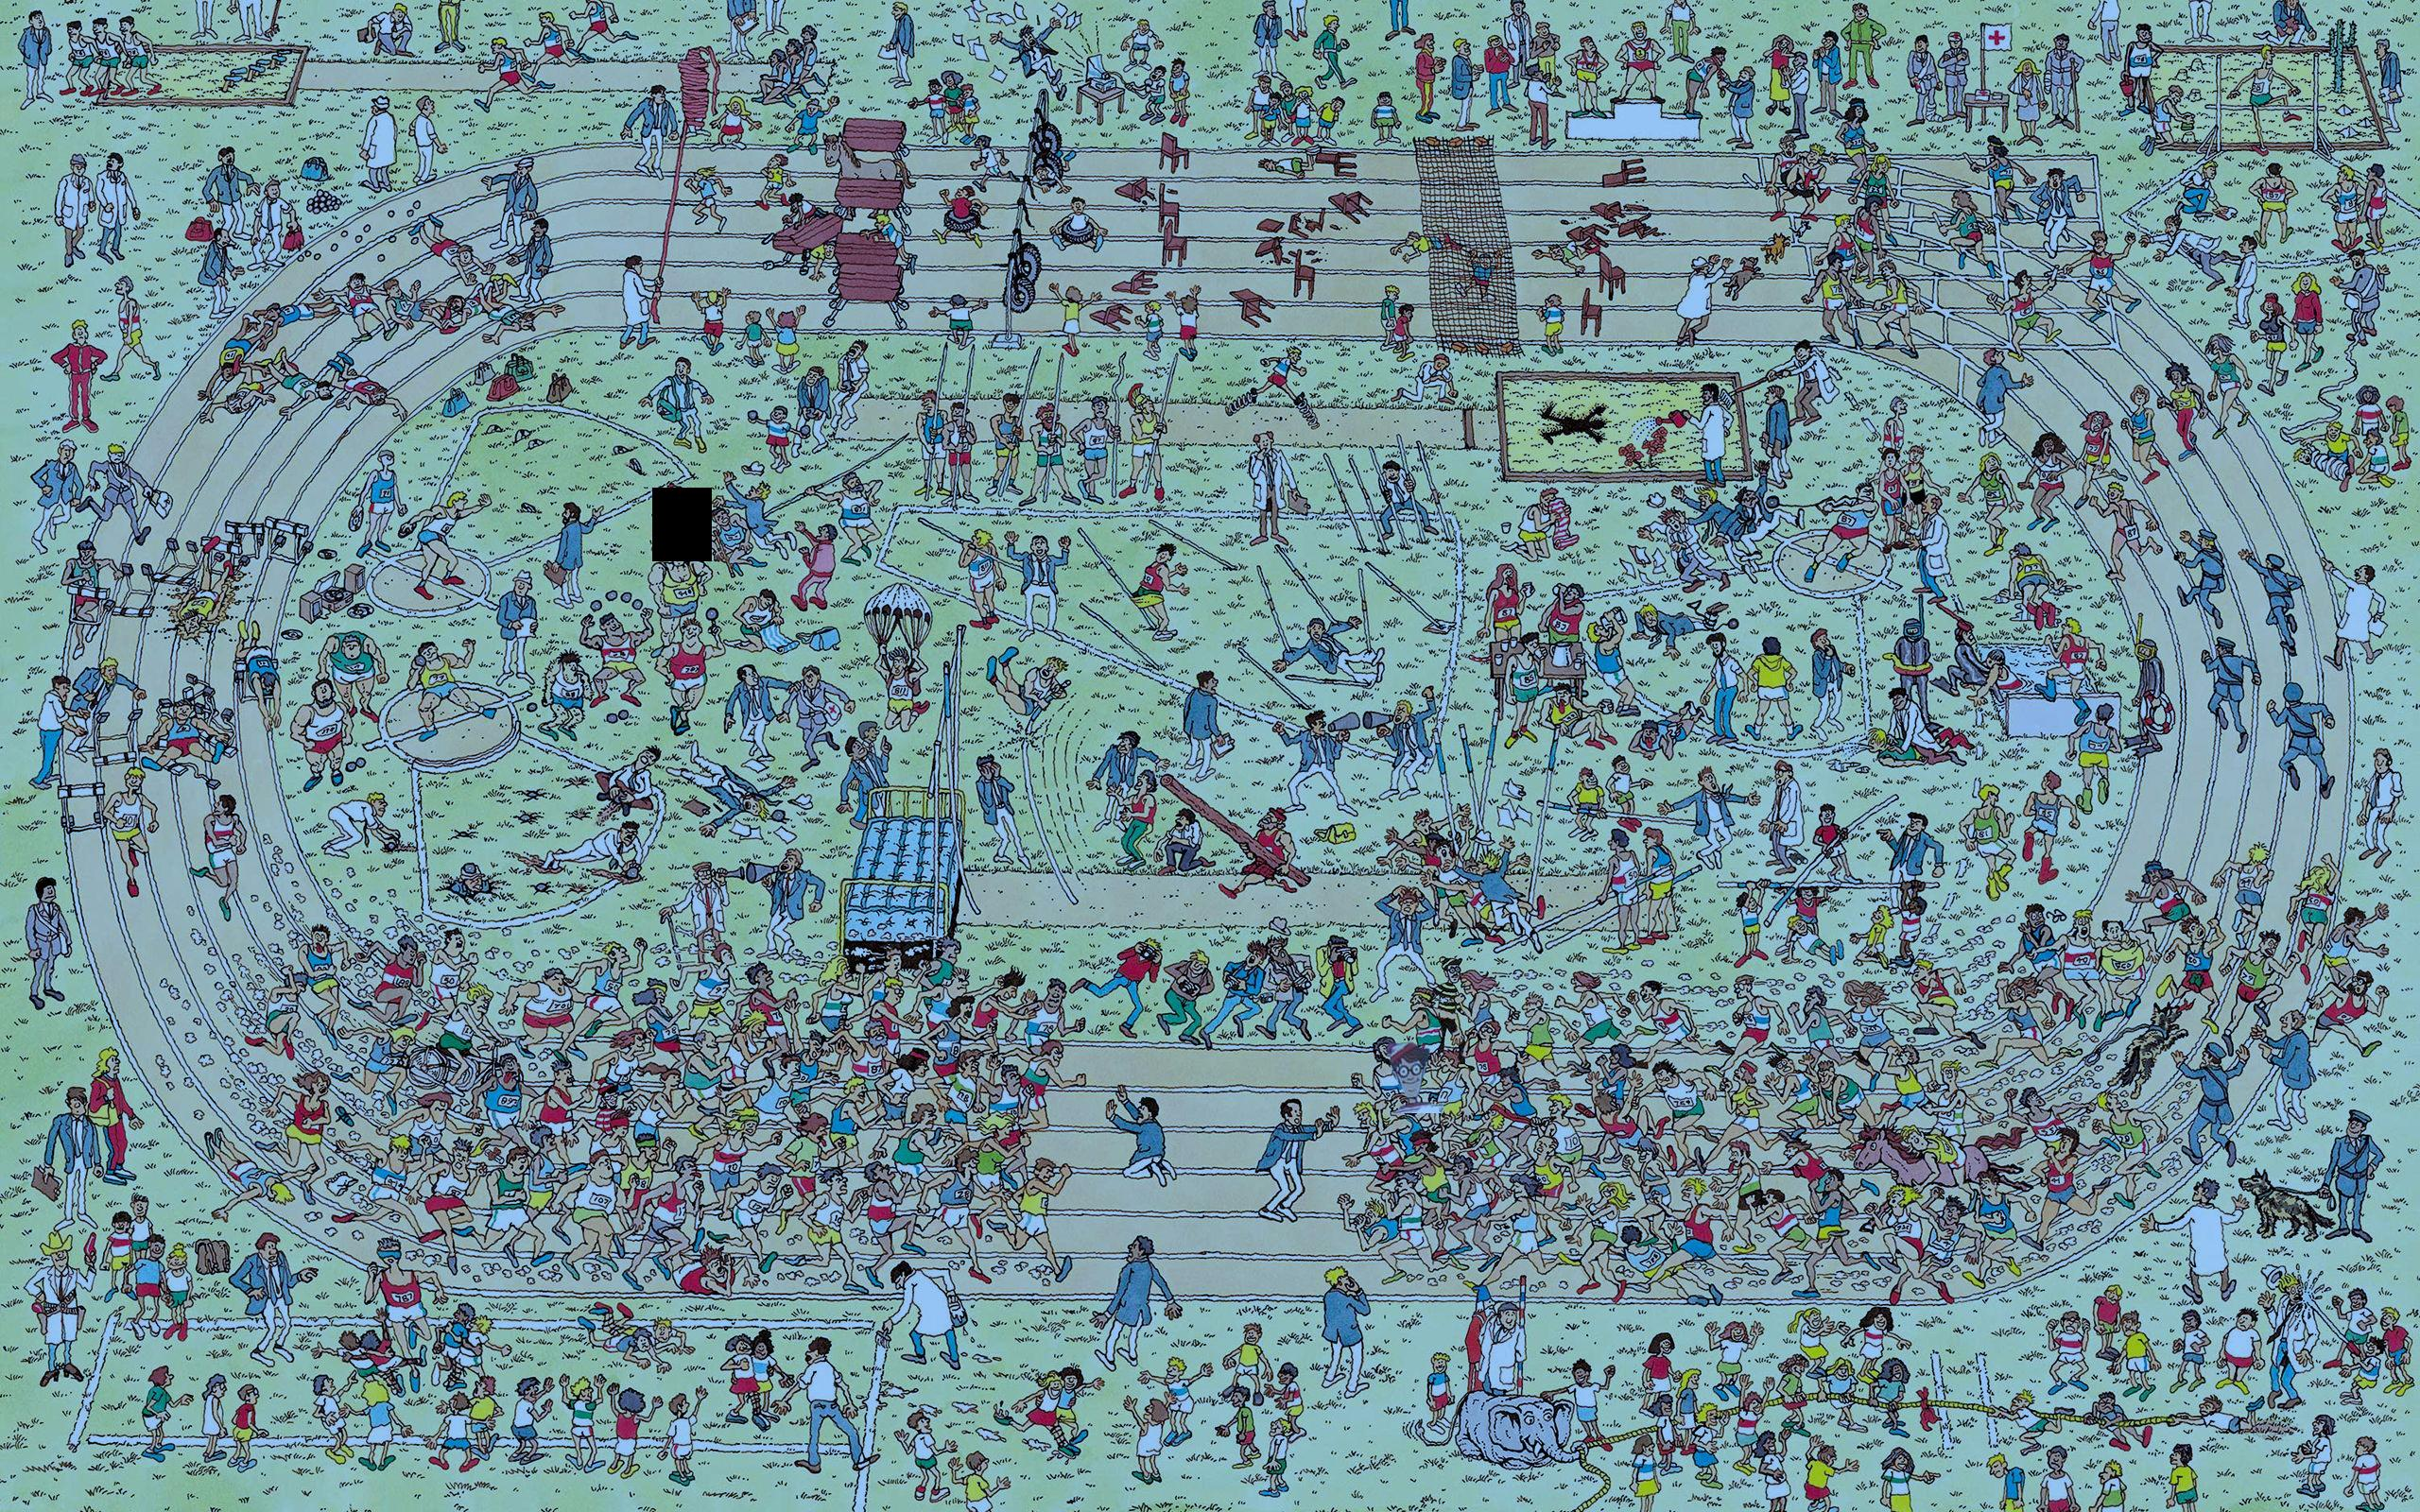waldos: (1383, 1040, 1444, 1113)
